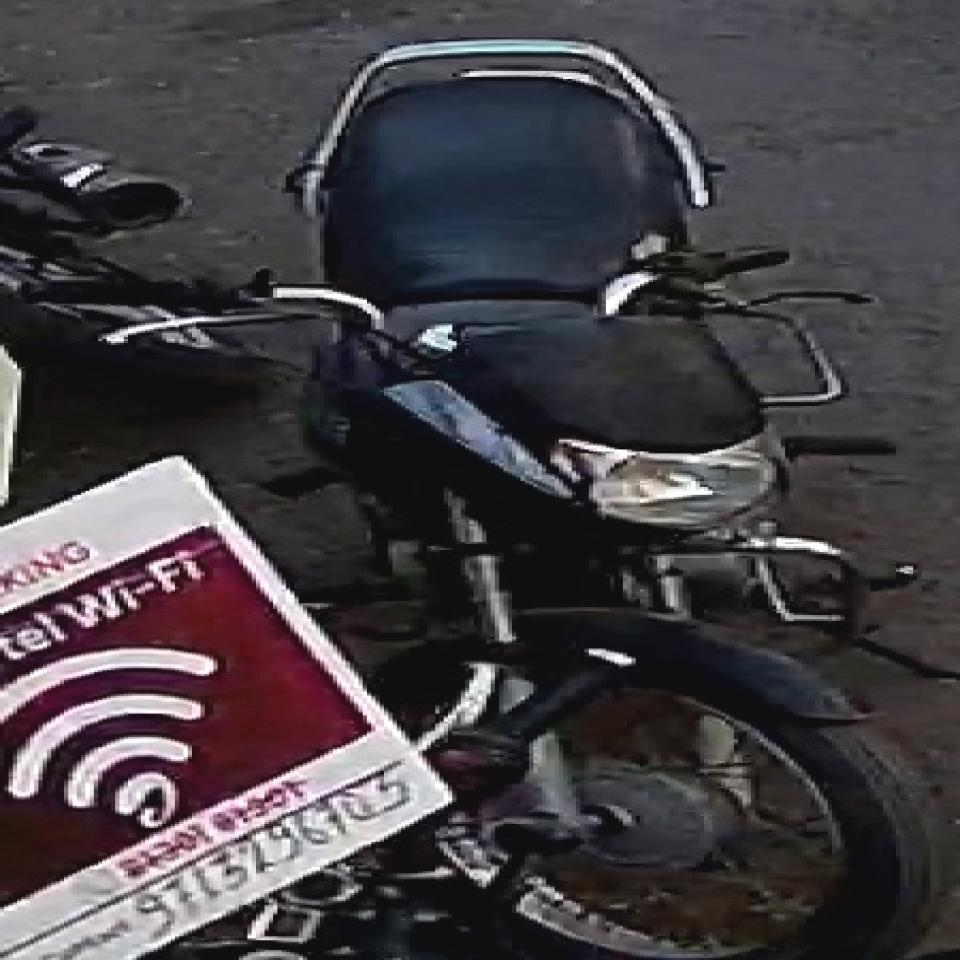head_light: (560, 429, 796, 533)
